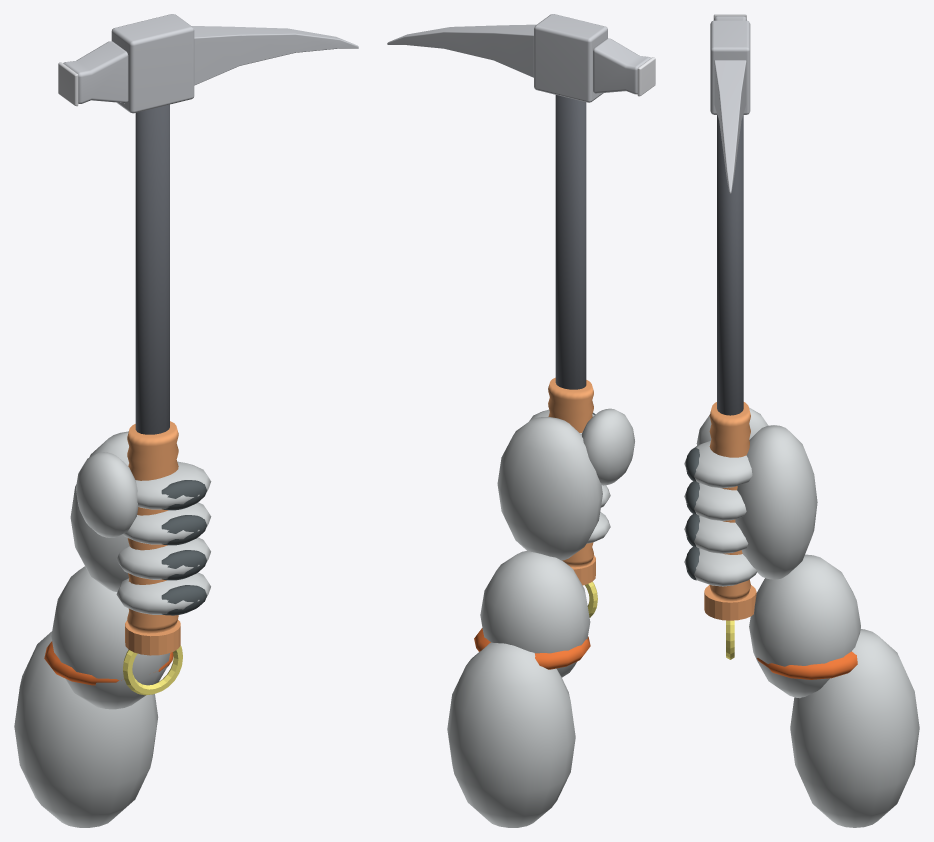
The model's file is rock-pick-view.glb.
The picture shows the model from 3 angles, left to right: view 1: azimuth 30°, elevation 25°; view 2: azimuth 150°, elevation 25°; view 3: azimuth 270°, elevation 25°; orthographic projection. The views are drawn at different scales.
Parts seen in each view (by area): view 1: SM_forearm, SM_handle, SM_wrist, SM_head_eye, SM_head_pick, SM_thumb, SM_grip, SM_glove_palm, SM_head_hammer, SM_curled_finger_0, SM_curled_finger_1, SM_curled_finger_3 (+9 smaller); view 2: SM_forearm, SM_glove_palm, SM_handle, SM_wrist, SM_head_eye, SM_head_pick, SM_thumb, SM_head_hammer, SM_grip, SM_cuff_band, SM_head_face; view 3: SM_forearm, SM_wrist, SM_glove_palm, SM_handle, SM_head_pick, SM_grip, SM_head_eye, SM_curled_finger_3, SM_curled_finger_0, SM_curled_finger_1, SM_curled_finger_2, SM_cuff_band (+2 smaller).
Boxes of the visible parts, left/top/right/bottom form: SM_forearm: left=14, top=631, right=158, bottom=827; SM_handle: left=135, top=104, right=169, bottom=434; SM_wrist: left=51, top=566, right=170, bottom=709; SM_head_eye: left=111, top=14, right=194, bottom=113; SM_head_pick: left=192, top=26, right=358, bottom=85; SM_thumb: left=76, top=452, right=138, bottom=537; SM_grip: left=127, top=421, right=178, bottom=633; SM_glove_palm: left=70, top=431, right=129, bottom=591; SM_head_hammer: left=63, top=41, right=128, bottom=103; SM_curled_finger_0: left=116, top=572, right=210, bottom=614; SM_curled_finger_1: left=116, top=537, right=210, bottom=579; SM_curled_finger_3: left=135, top=461, right=211, bottom=509; SM_forearm: left=447, top=642, right=575, bottom=827; SM_glove_palm: left=497, top=417, right=602, bottom=560; SM_handle: left=555, top=95, right=586, bottom=389; SM_wrist: left=480, top=550, right=590, bottom=677; SM_head_eye: left=534, top=14, right=607, bottom=102; SM_head_pick: left=387, top=24, right=536, bottom=77; SM_thumb: left=581, top=408, right=634, bottom=485; SM_head_hammer: left=593, top=38, right=650, bottom=94; SM_grip: left=548, top=377, right=593, bottom=567; SM_cuff_band: left=474, top=628, right=590, bottom=669; SM_head_face: left=637, top=57, right=655, bottom=96; SM_forearm: left=790, top=629, right=919, bottom=827; SM_wrist: left=749, top=554, right=860, bottom=698; SM_glove_palm: left=735, top=425, right=817, bottom=579; SM_handle: left=717, top=115, right=743, bottom=415; SM_head_pick: left=714, top=60, right=746, bottom=193; SM_grip: left=709, top=402, right=750, bottom=601; SM_head_eye: left=710, top=20, right=750, bottom=114; SM_curled_finger_3: left=684, top=441, right=752, bottom=488; SM_curled_finger_0: left=684, top=548, right=757, bottom=586; SM_curled_finger_1: left=684, top=516, right=748, bottom=553; SM_curled_finger_2: left=684, top=483, right=746, bottom=520; SM_cuff_band: left=757, top=651, right=857, bottom=679.
Bounding box in the file's own units: 0.253 × 0.7 × 0.189.
